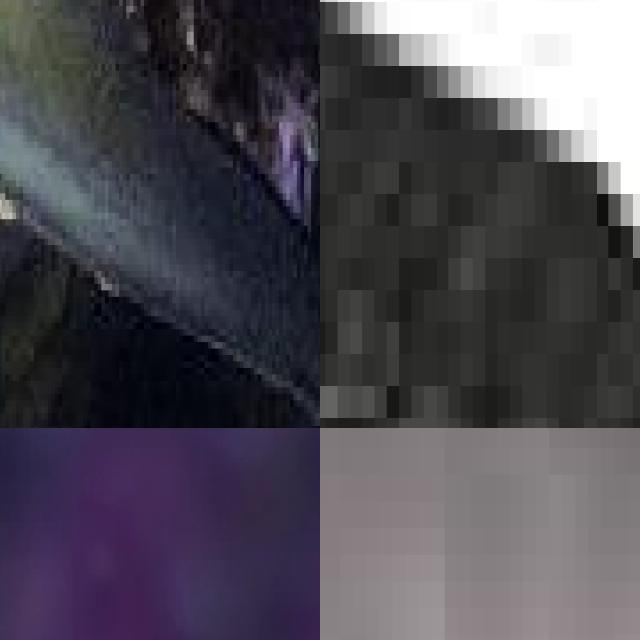fish: (0, 0, 320, 428), (320, 98, 640, 428)
